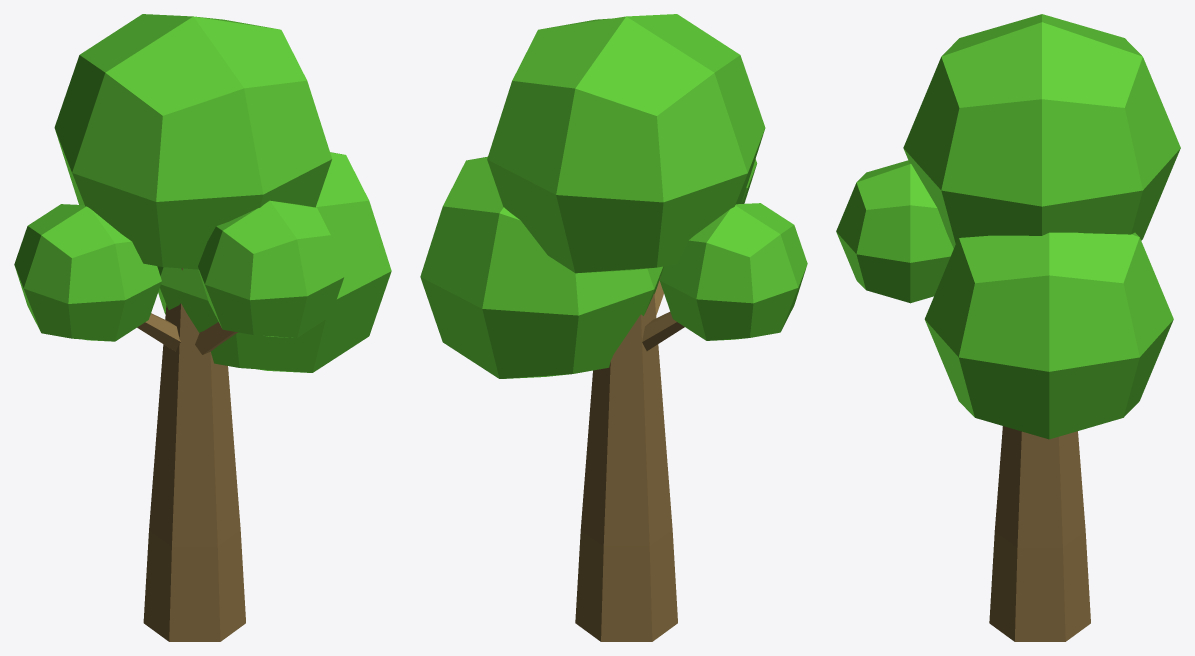
The model's file is Tree2.fbx.
3 renders of one model, left to right at view 1: azimuth 30°, elevation 25°; view 2: azimuth 150°, elevation 25°; view 3: azimuth 270°, elevation 25°, orthographic.
Visible parts, largest first — view 1: Cube.014, Cylinder.003, Cube.015, Cube.016, Cube.013, Cylinder.004, Cylinder.005; view 2: Cube.014, Cube.016, Cylinder.003, Cube.013, Cylinder.004; view 3: Cube.014, Cube.016, Cylinder.003, Cube.015.
Part boxes in pixels (bbox=[...]): Cube.014: bbox=[54, 14, 331, 269]; Cylinder.003: bbox=[143, 268, 245, 641]; Cube.015: bbox=[198, 200, 344, 337]; Cube.016: bbox=[157, 152, 391, 372]; Cube.013: bbox=[14, 204, 161, 341]; Cylinder.004: bbox=[137, 313, 180, 351]; Cylinder.005: bbox=[195, 322, 238, 354]; Cube.014: bbox=[487, 14, 765, 273]; Cube.016: bbox=[420, 156, 663, 378]; Cylinder.003: bbox=[575, 293, 677, 641]; Cube.013: bbox=[659, 203, 807, 340]; Cylinder.004: bbox=[642, 312, 684, 350]; Cube.014: bbox=[903, 14, 1180, 248]; Cube.016: bbox=[924, 232, 1173, 439]; Cylinder.003: bbox=[989, 426, 1090, 641]; Cube.015: bbox=[836, 160, 953, 303].
Size of the model in its own units: 338 by 549 by 285.
